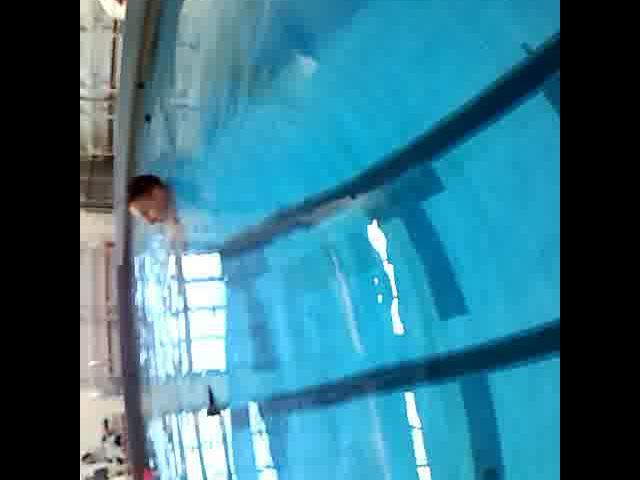CamMount: (198, 380, 224, 417)
